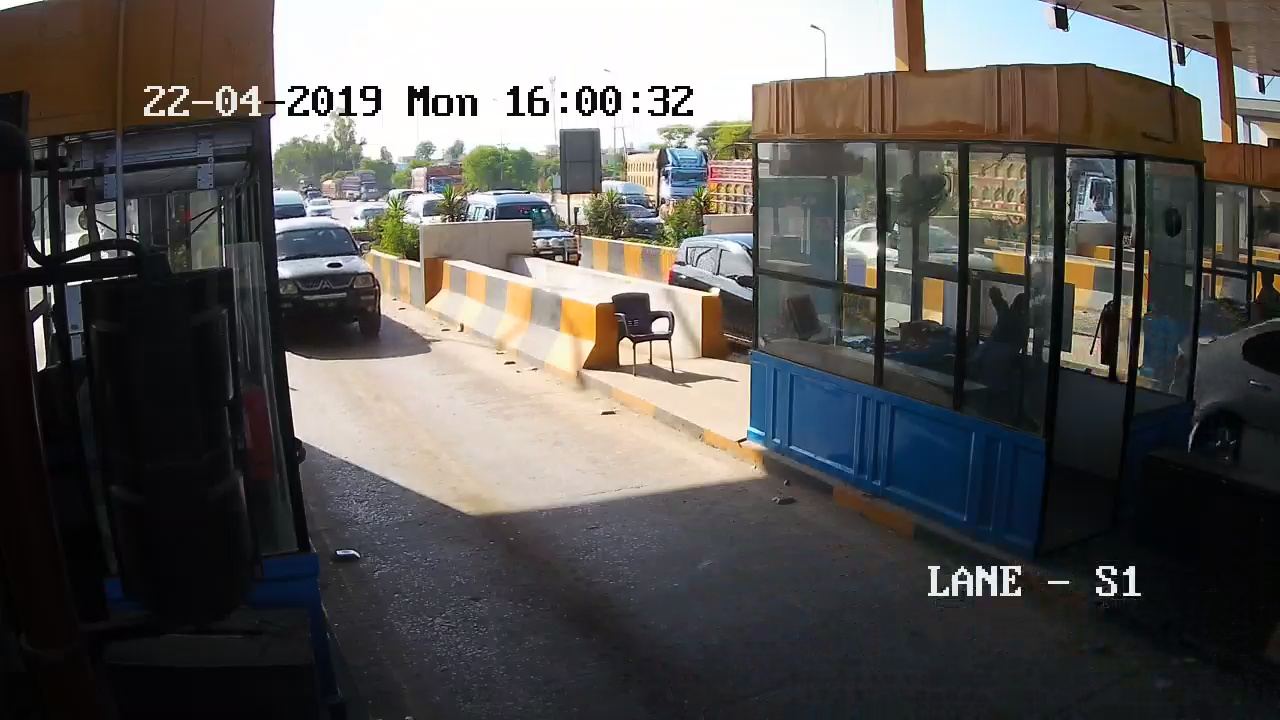car: (271, 220, 419, 383)
